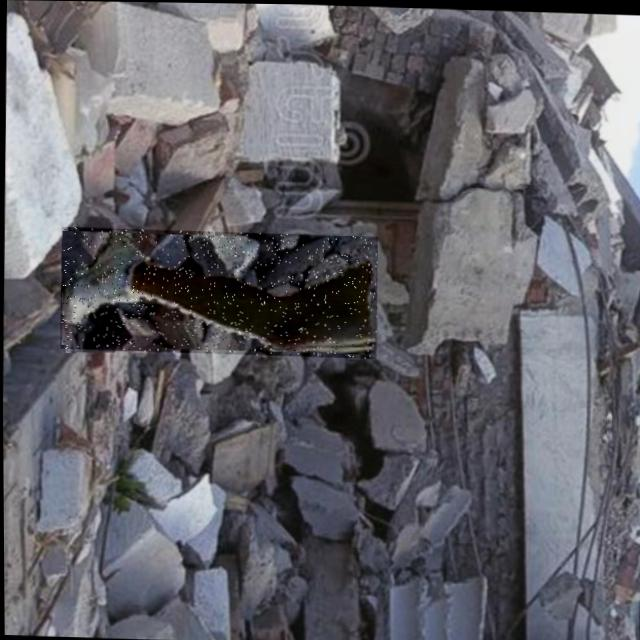Person in Rubble: (58, 226, 377, 357)
